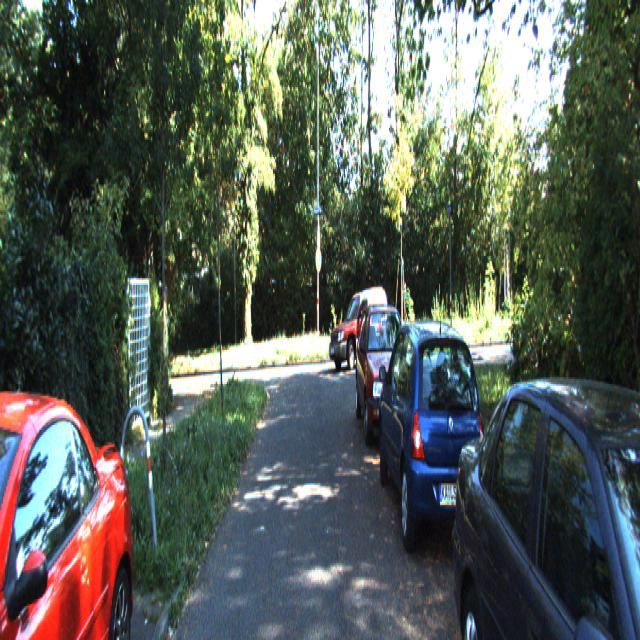Car: (444, 340, 640, 638), (0, 350, 146, 638), (375, 317, 489, 560), (353, 302, 418, 452), (327, 281, 390, 364)
